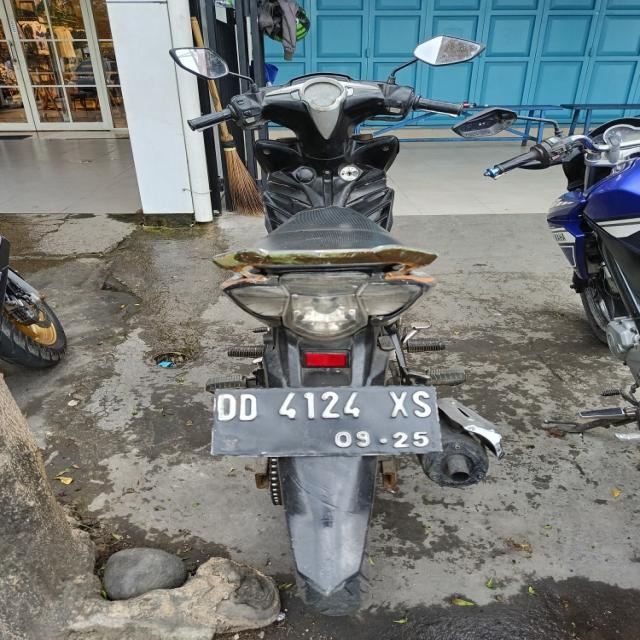plates: (212, 386, 454, 454), (84, 0, 118, 5)
